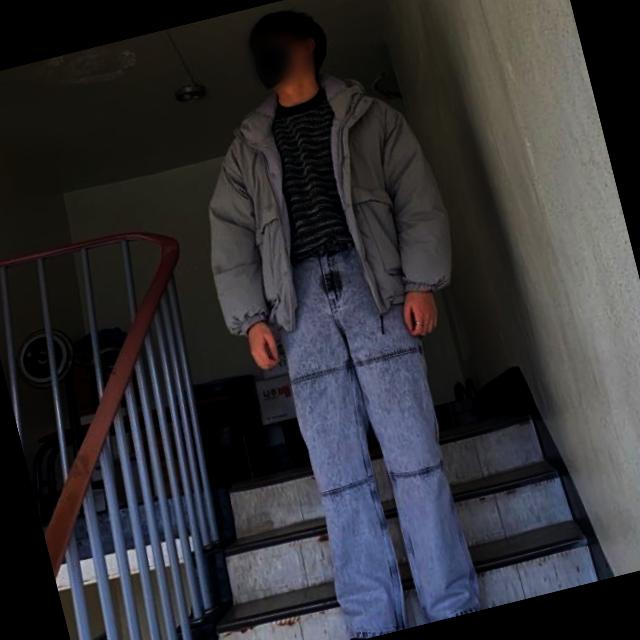denimpants: (252, 226, 486, 640)
padding: (170, 49, 465, 348)
sweater: (250, 88, 366, 261)
